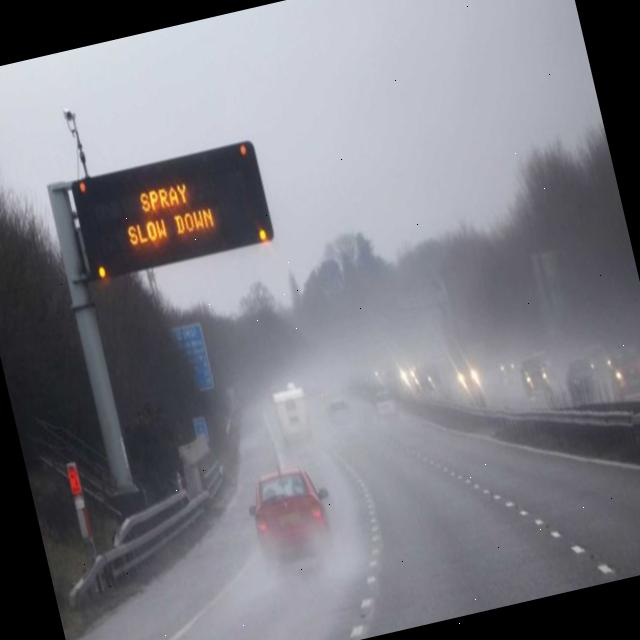bus: (268, 382, 317, 452)
car: (242, 461, 337, 566), (605, 345, 640, 401), (559, 352, 601, 398), (517, 354, 553, 396), (449, 354, 484, 394), (410, 363, 436, 393), (327, 392, 352, 423), (372, 386, 396, 416), (493, 353, 519, 380)
